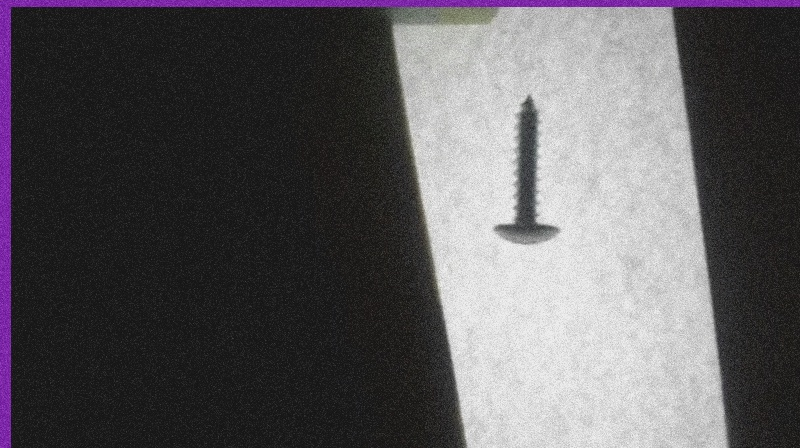S003: (486, 92, 562, 248)
